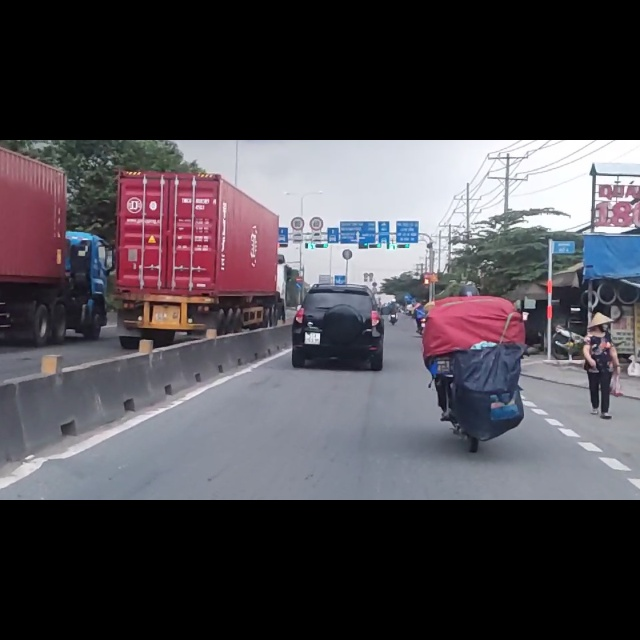bien_chi_dan: (309, 134, 324, 161), (291, 136, 305, 161), (295, 242, 303, 252), (295, 254, 302, 264)
